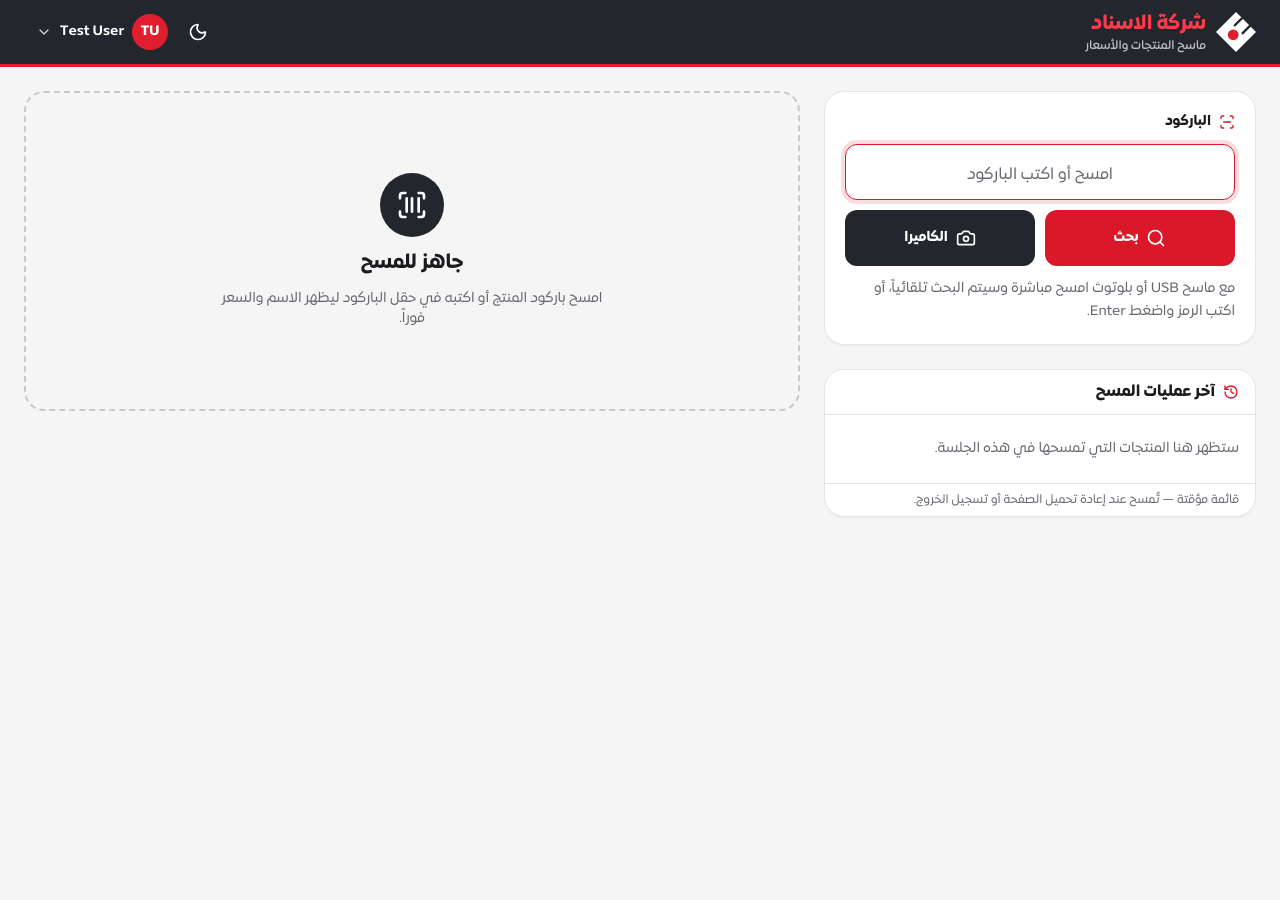
ScannerPage › shows "No price available" (never 0) when the price is missing
Type "1" into the field labelled "الباركود" at [1040, 172], box [845,144,1235,200]
Then press Enter
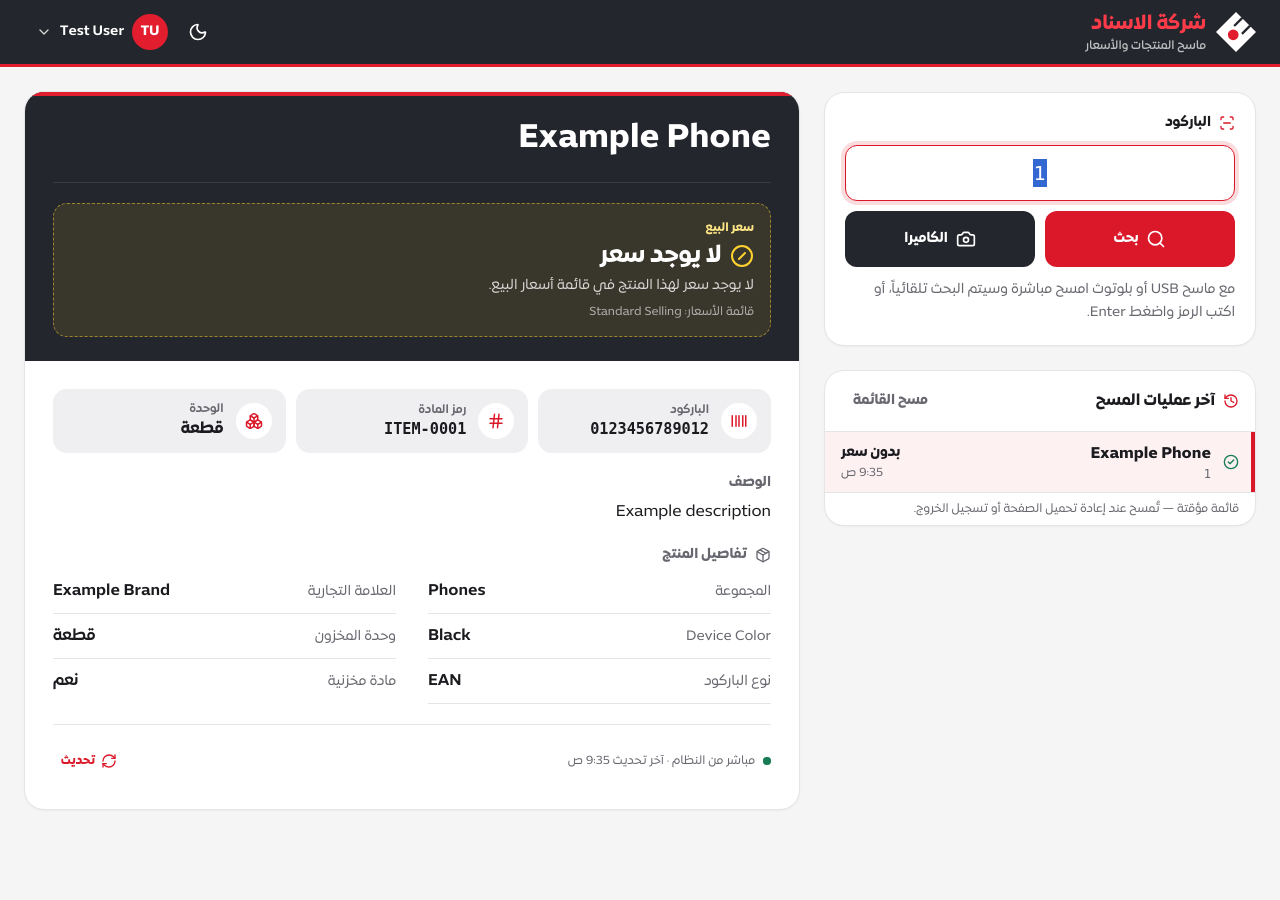
Now the element with test id "price" shows "لا يوجد سعر", box [600,242,722,270]
